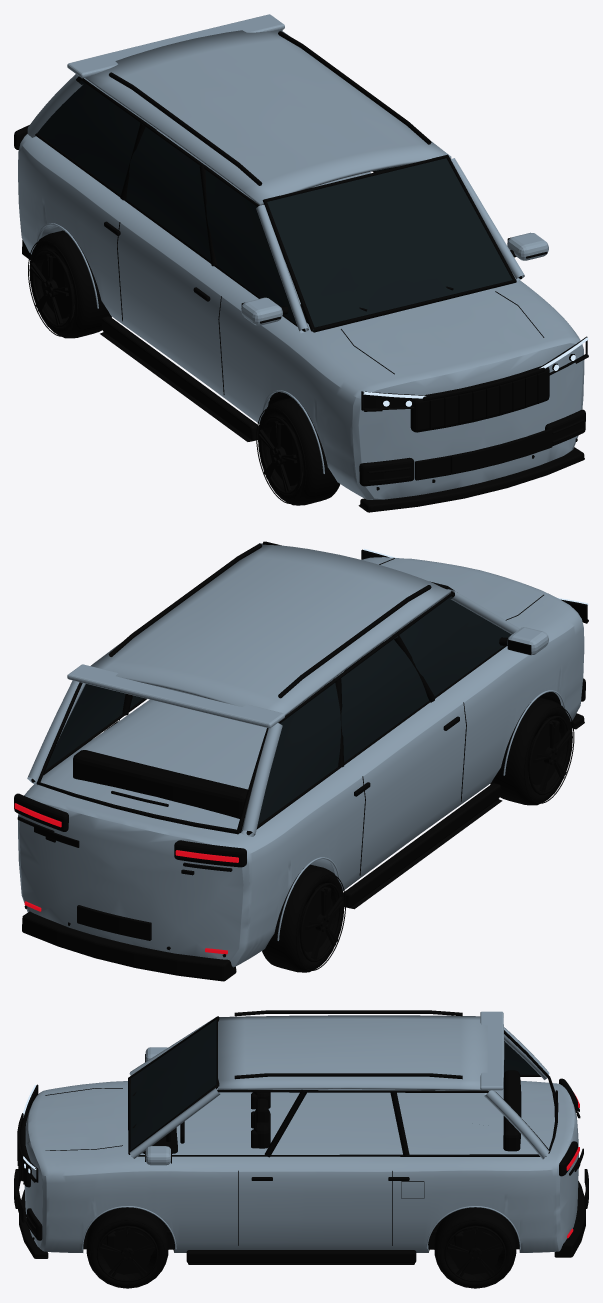
Rendered from avanza.glb.
3 views of the same model, one above another, from view 1: azimuth 30°, elevation 25°; view 2: azimuth 150°, elevation 25°; view 3: azimuth 270°, elevation 25° (orthographic). The views are drawn at different scales.
Parts seen in each view (by area): view 1: chassis.001__Automotive clearcoat, chassis.001__Solar glass, chassis.001__Vehicle detail atlas, wheel_FL.001__Vehicle detail atlas, wheel_RL.001__Vehicle detail atlas; view 2: chassis.001__Automotive clearcoat, chassis.001__Vehicle detail atlas, chassis.001__Solar glass, wheel_FL.001__Vehicle detail atlas, wheel_RL.001__Vehicle detail atlas, chassis.001__Red LED optics; view 3: chassis.001__Automotive clearcoat, chassis.001__Vehicle detail atlas, chassis.001__Solar glass, wheel_FR.001__Vehicle detail atlas, wheel_RR.001__Vehicle detail atlas.
Part boxes in pixels (x1,y1,x2,y2): chassis.001__Automotive clearcoat: (18, 14, 584, 499); chassis.001__Solar glass: (37, 80, 512, 330); chassis.001__Vehicle detail atlas: (14, 31, 587, 512); wheel_FL.001__Vehicle detail atlas: (256, 397, 340, 505); wheel_RL.001__Vehicle detail atlas: (28, 230, 111, 338); chassis.001__Automotive clearcoat: (18, 543, 584, 967); chassis.001__Vehicle detail atlas: (14, 541, 587, 981); chassis.001__Solar glass: (45, 596, 511, 824); wheel_FL.001__Vehicle detail atlas: (490, 697, 574, 805); wheel_RL.001__Vehicle detail atlas: (262, 864, 345, 972); chassis.001__Red LED optics: (14, 803, 238, 954); chassis.001__Automotive clearcoat: (24, 1011, 578, 1252); chassis.001__Vehicle detail atlas: (14, 1010, 588, 1264); chassis.001__Solar glass: (130, 1019, 538, 1150); wheel_FR.001__Vehicle detail atlas: (86, 1207, 168, 1288); wheel_RR.001__Vehicle detail atlas: (434, 1207, 516, 1288).
Size of the model in its own units: 2.05 by 1.74 by 4.55.
Materials: 8 (6 with a texture image).
